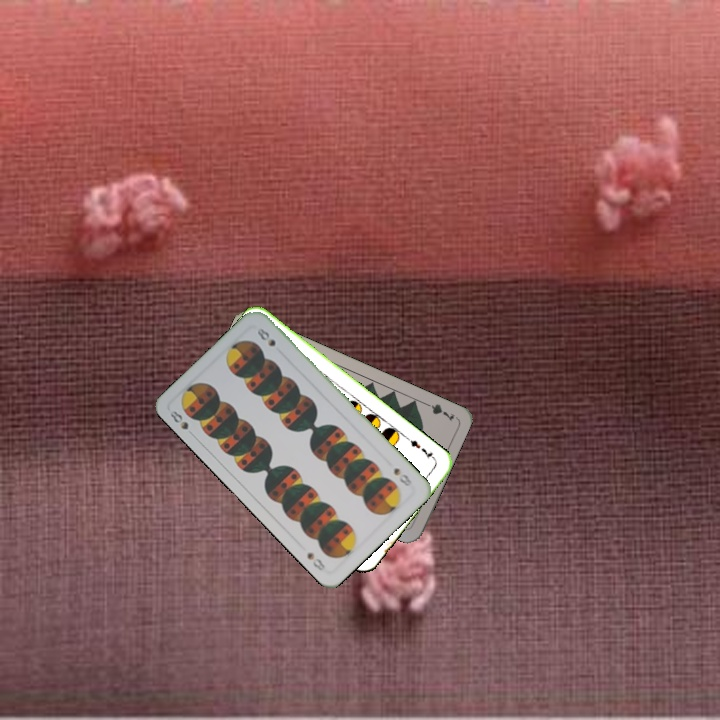E7: (403, 434, 438, 463)
G7: (419, 398, 458, 424)
S8: (166, 406, 191, 432), (390, 464, 415, 489)
